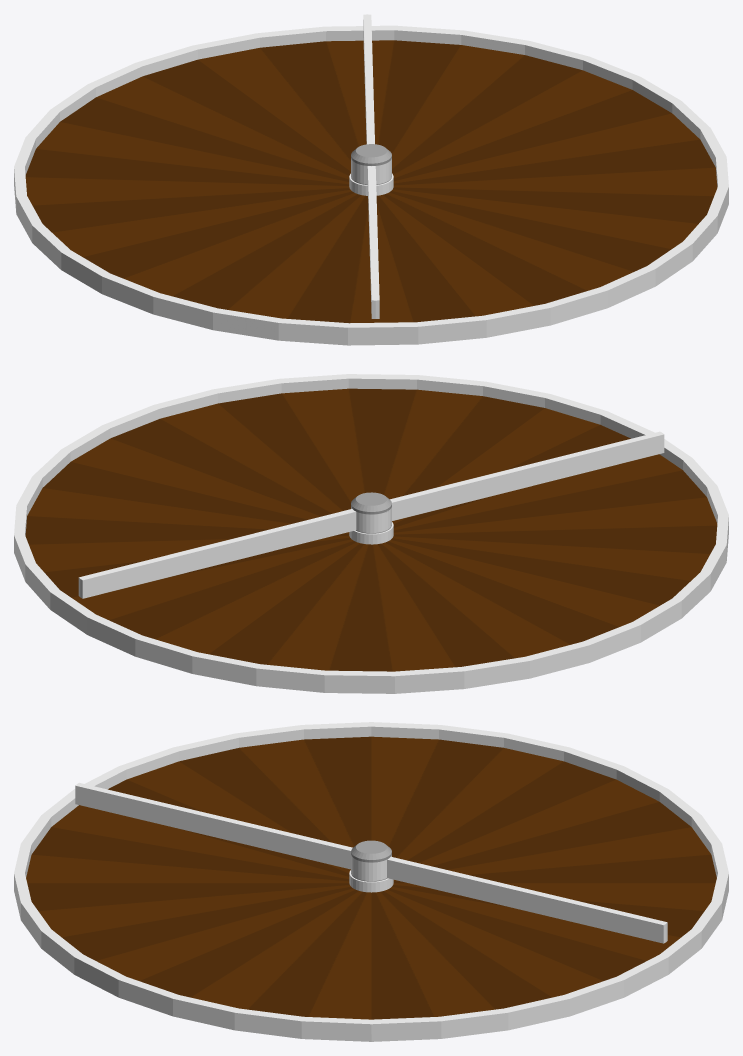
File: farm.fbx
The picture shows the model from 3 angles, top to bottom: view 1: azimuth 30°, elevation 25°; view 2: azimuth 150°, elevation 25°; view 3: azimuth 270°, elevation 25°; orthographic projection.
Visible parts, largest first — view 1: Circle, Circle.001; view 2: Circle, Circle.001; view 3: Circle, Circle.001.
Boxes of the visible parts, x1=… form: Circle: x1=14, y1=25, x2=728, y2=345; Circle.001: x1=351, y1=14, x2=391, y2=318; Circle: x1=14, y1=374, x2=728, y2=693; Circle.001: x1=78, y1=431, x2=664, y2=598; Circle: x1=14, y1=722, x2=728, y2=1041; Circle.001: x1=75, y1=782, x2=667, y2=943.
Size of the model in its own units: 1645 by 111 by 1645.
